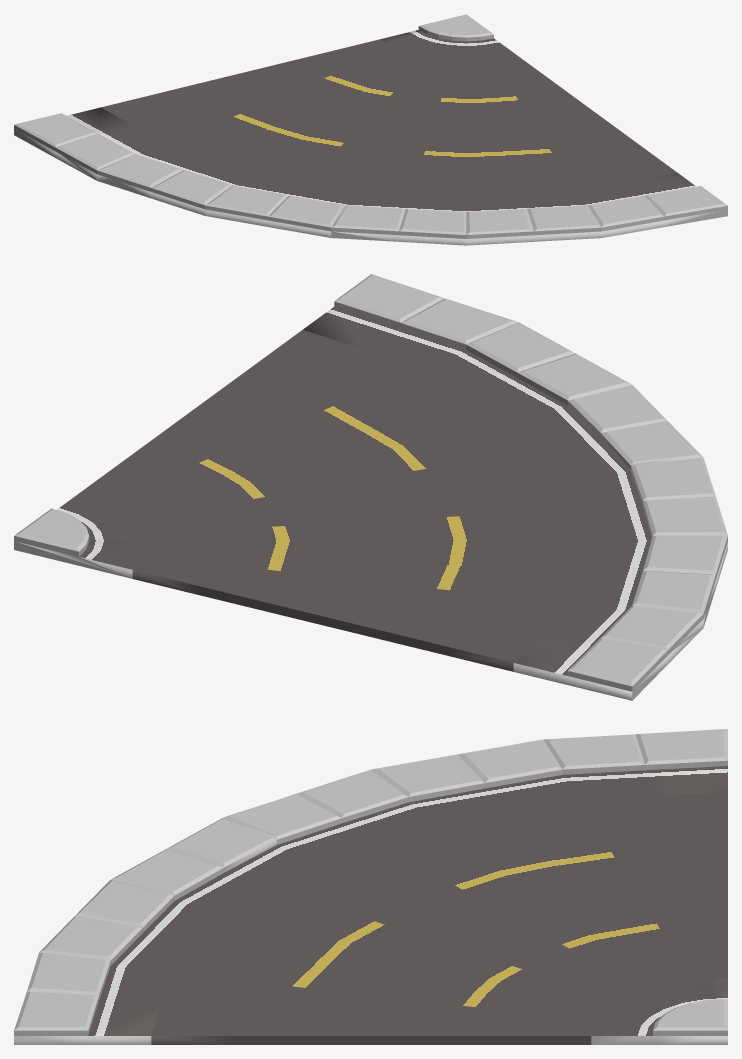
File: road_corner_edit_joined.obj
3 views of the same model, one above another, from view 1: azimuth 30°, elevation 25°; view 2: azimuth 150°, elevation 25°; view 3: azimuth 270°, elevation 25° (orthographic). The views are drawn at different scales.
Visible parts, largest first — view 1: base_street; view 2: base_street; view 3: base_street.
Part boxes in pixels (x1,y1,x2,y2): base_street: [14, 14, 727, 245]; base_street: [14, 274, 727, 700]; base_street: [14, 729, 727, 1044].
Size of the model in its own units: 18.2 by 0.4531 by 18.22.
